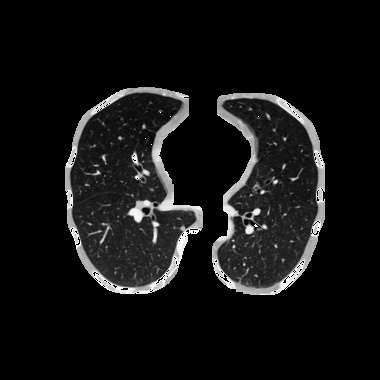PN: (180, 226, 184, 230)
